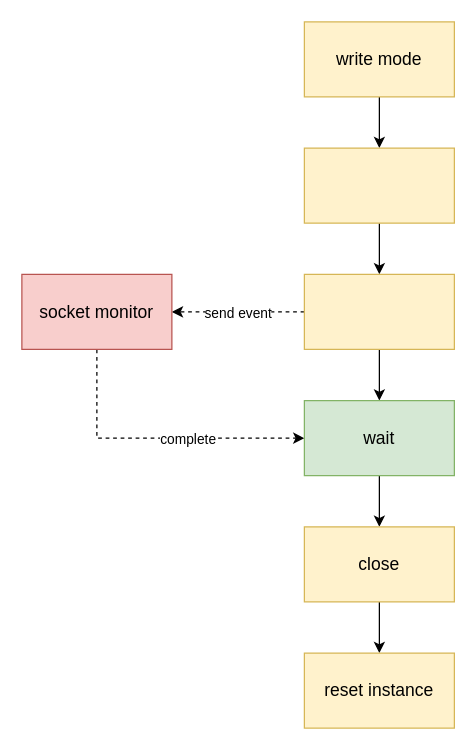
Some shapes in this 476 by 750 pixel diagram are drawn without their labels. Here are the shapes that lost their labels. From the top down, the centre of each, then its label:
At (x=378, y=185): "get socket instancce".
At (x=378, y=311): "remove socket monitor fd set".
